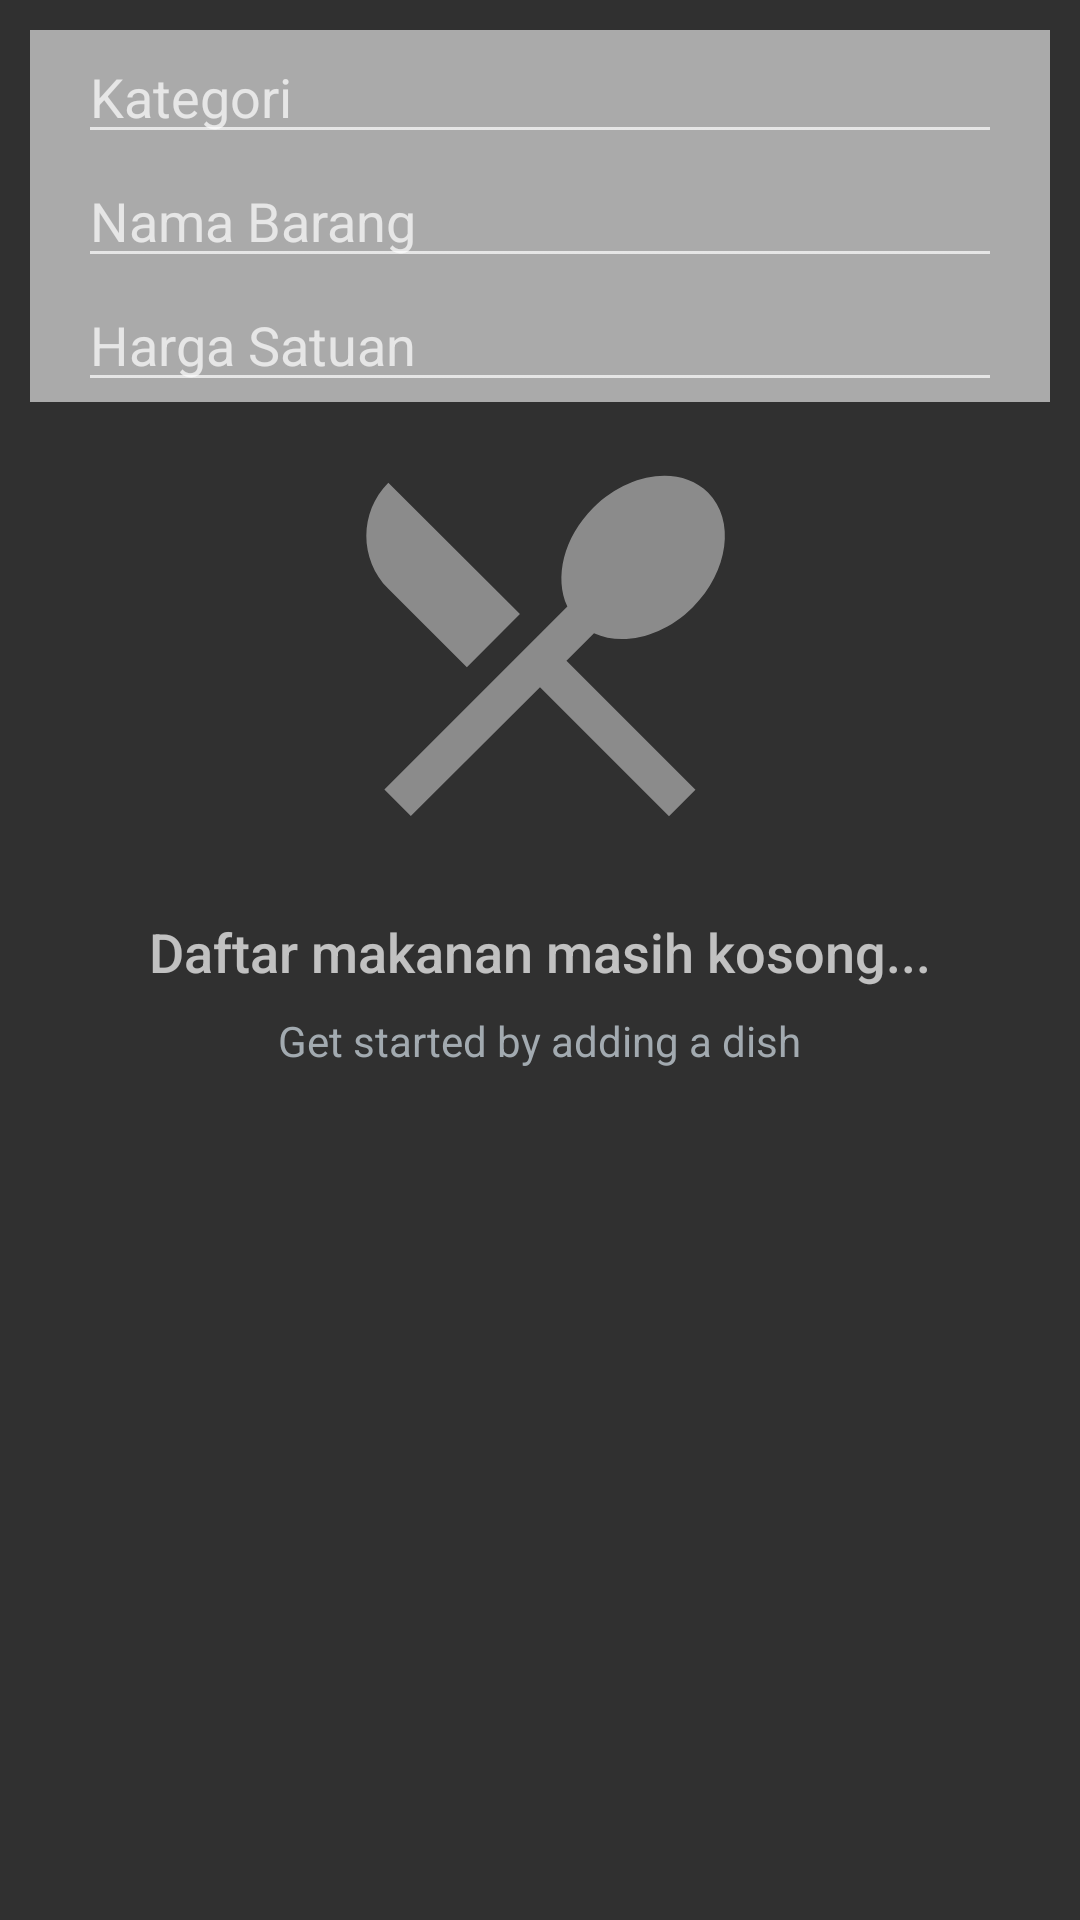

Named icons in this screenshot (1080×1920) and their centers, (x,y):
restaurant menu: (545,646)
